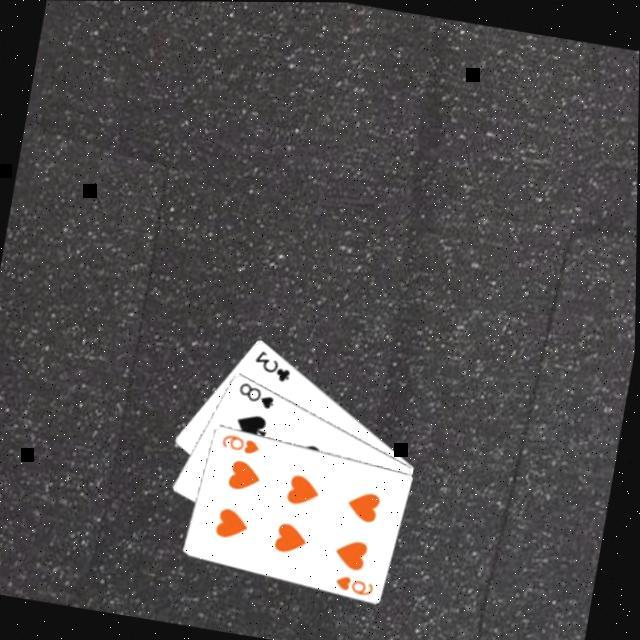3C: (252, 345, 299, 385)
6H: (220, 428, 267, 457), (334, 570, 381, 598)
8S: (236, 377, 282, 411)
